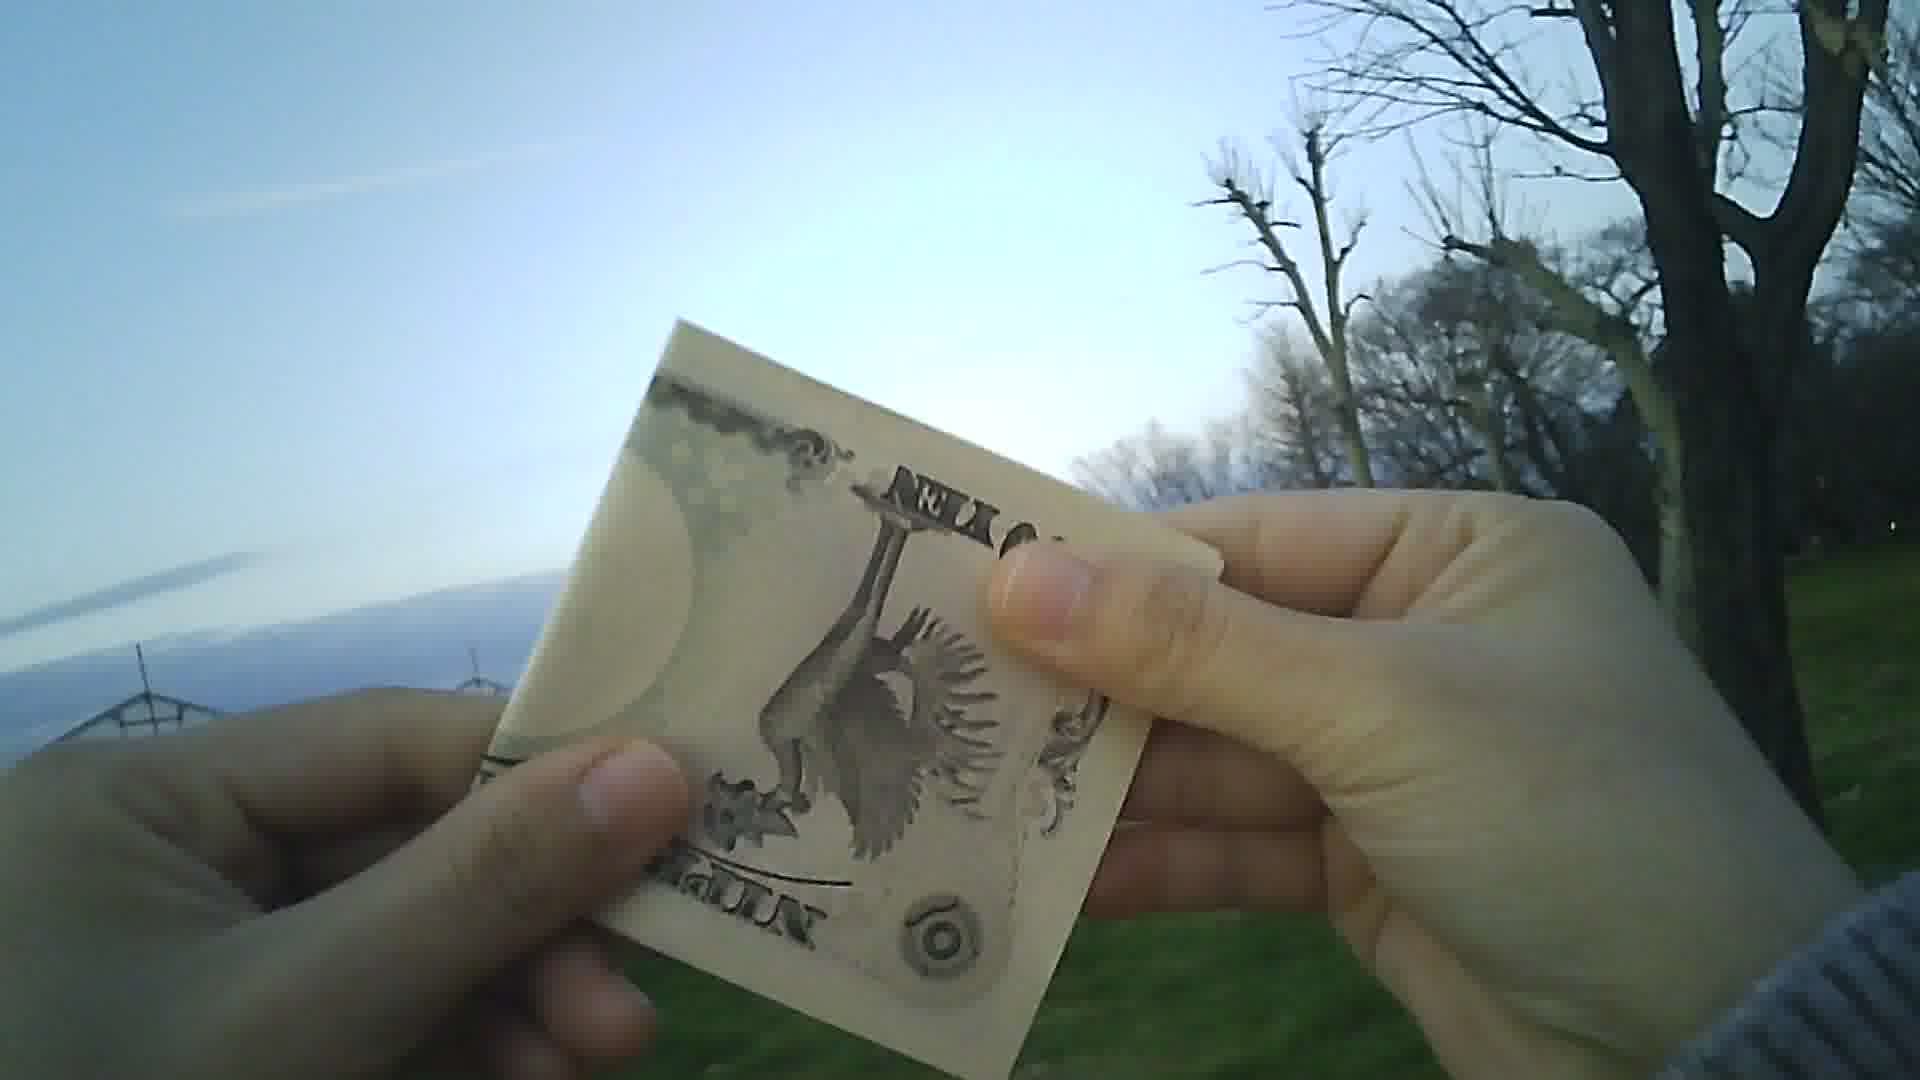10,000 Yen: (448, 291, 1229, 1039)
